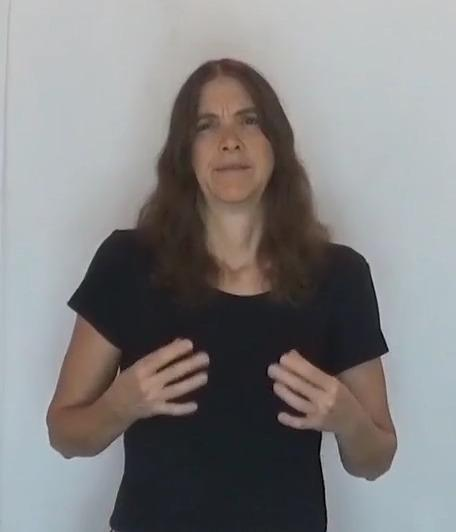Dolor: (37, 46, 420, 487)
